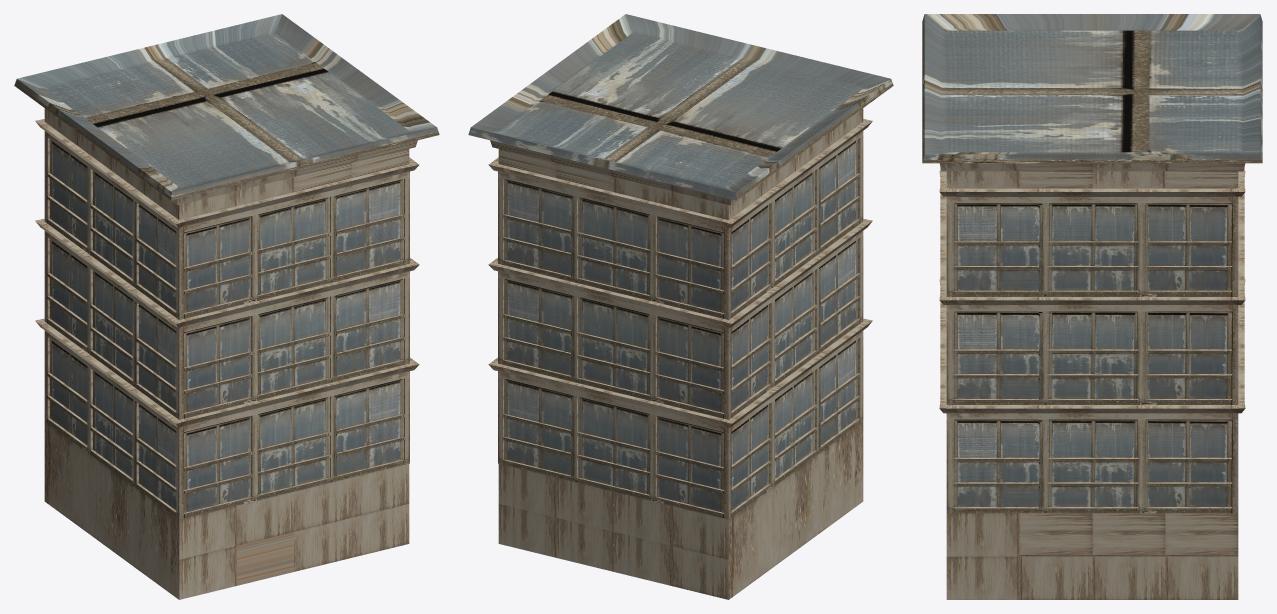
Rendered from building01.fbx.
The picture shows the model from 3 angles, left to right: view 1: azimuth 30°, elevation 25°; view 2: azimuth 150°, elevation 25°; view 3: azimuth 270°, elevation 25°; orthographic projection. The views are drawn at different scales.
Visible parts, largest first — view 1: building01; view 2: building01; view 3: building01.
Boxes of the visible parts, x1,y1,x2,y2 form: building01: (14,14,439,599); building01: (468,14,893,599); building01: (922,14,1262,599).
Size of the model in its own units: 181 by 271 by 183.
